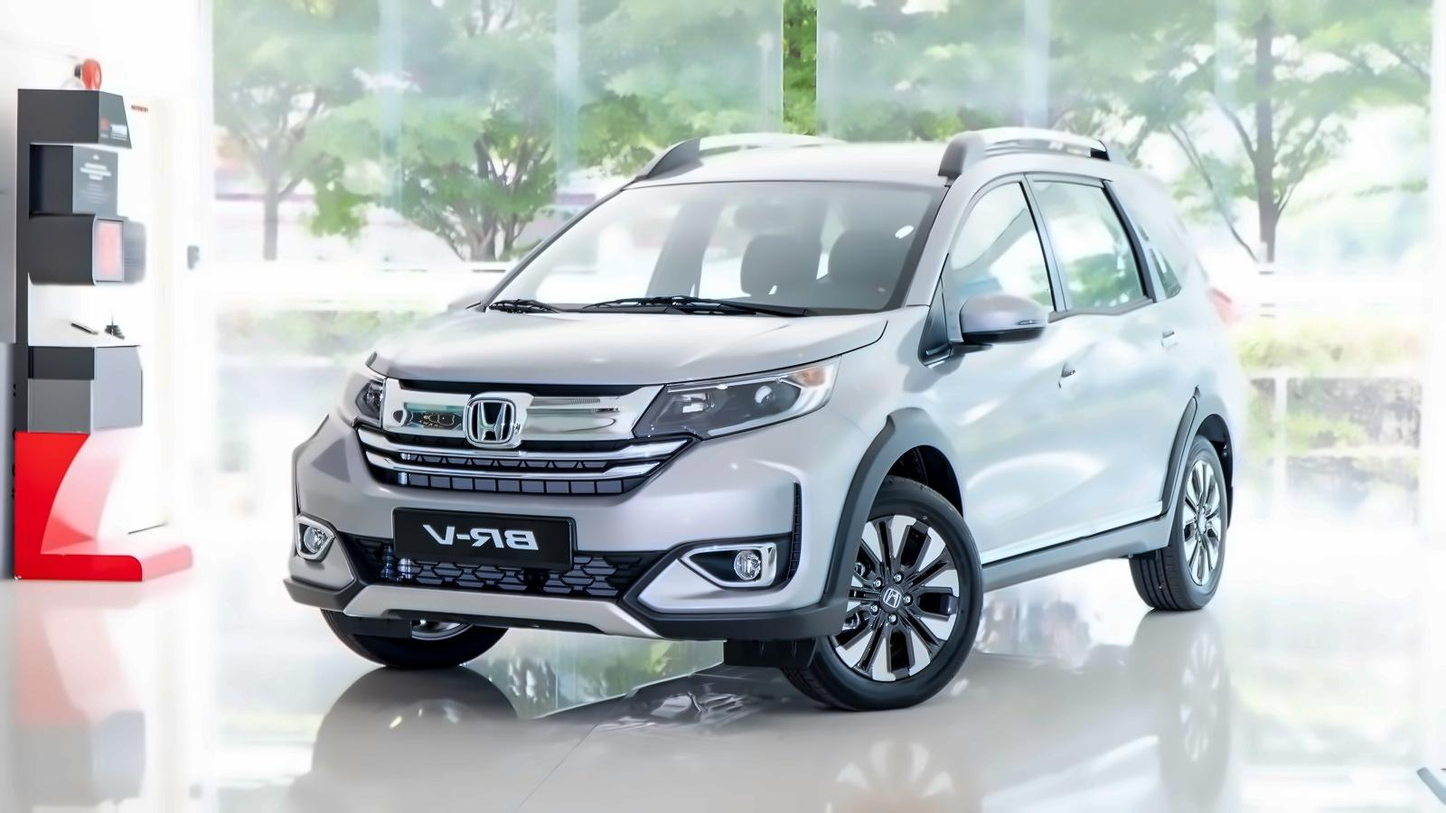Car hood: (356, 306, 890, 384)
Fender - -F-L-: (785, 294, 975, 600)
Front bumper: (273, 458, 862, 653)
Headlight - -L-: (632, 349, 842, 446)
Headlight - -R-: (333, 358, 388, 439)
Passenger-s door - -F-L-: (926, 109, 1110, 615)
Passenger-s door - -R-L-: (1027, 121, 1190, 595)
Side bumper - -L-: (966, 501, 1193, 615)
Side mirror - -L-: (936, 285, 1049, 369)
